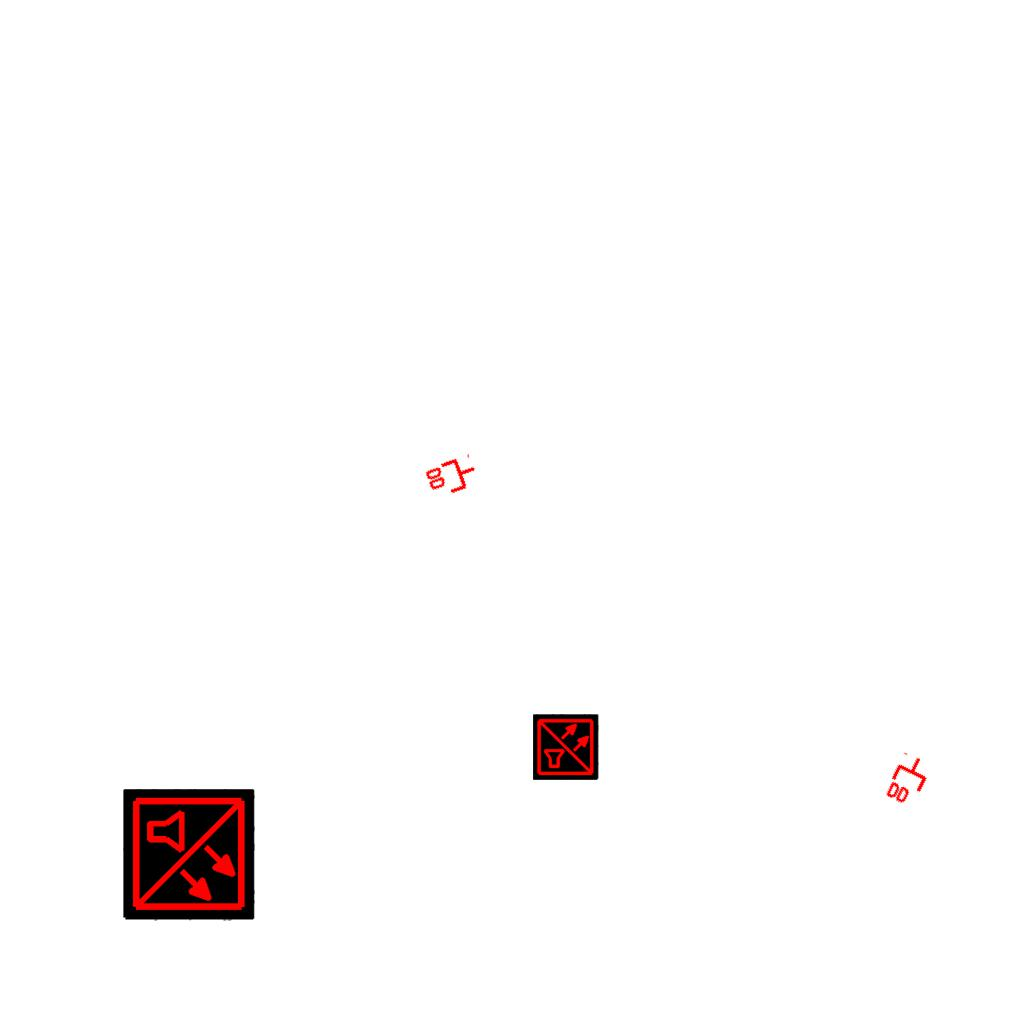Datenanschluss_zweifach: (882, 750, 936, 811), (422, 452, 482, 503)
OKW_Multisensormelder_(Kombination_optischer_Rauch-Kahlenmonoxid_Waerme-Melder): (123, 789, 255, 921), (533, 714, 599, 780)
